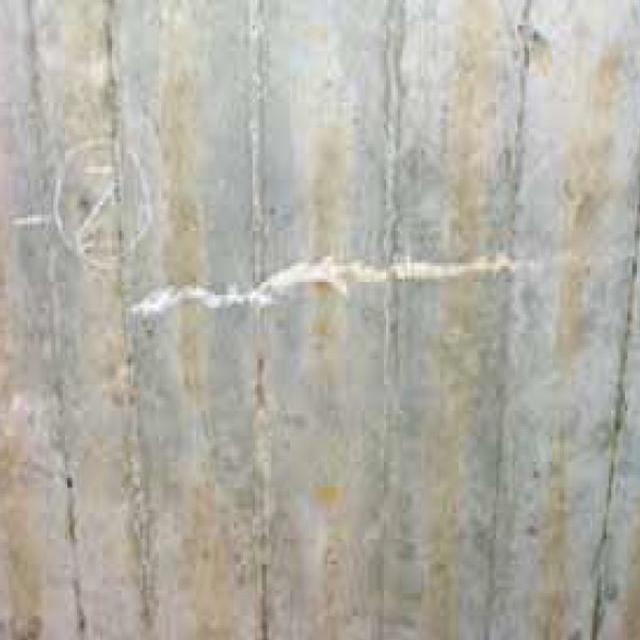freelime: (111, 253, 578, 326)
